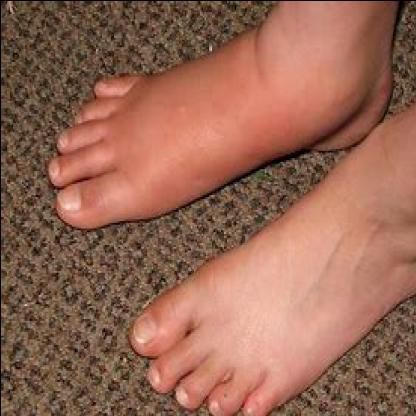Wasp: (101, 59, 180, 215), (180, 43, 260, 188), (261, 57, 368, 150)
